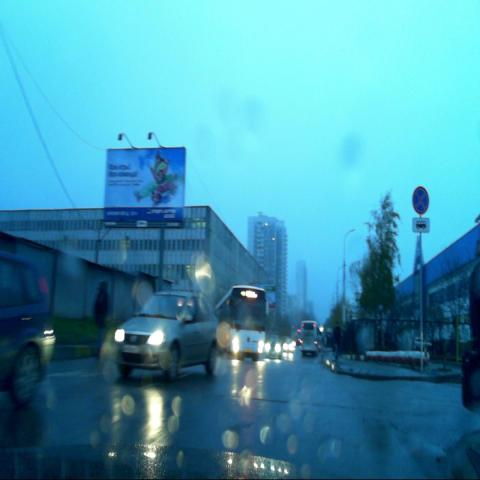8_4_4: (412, 219, 431, 232)
